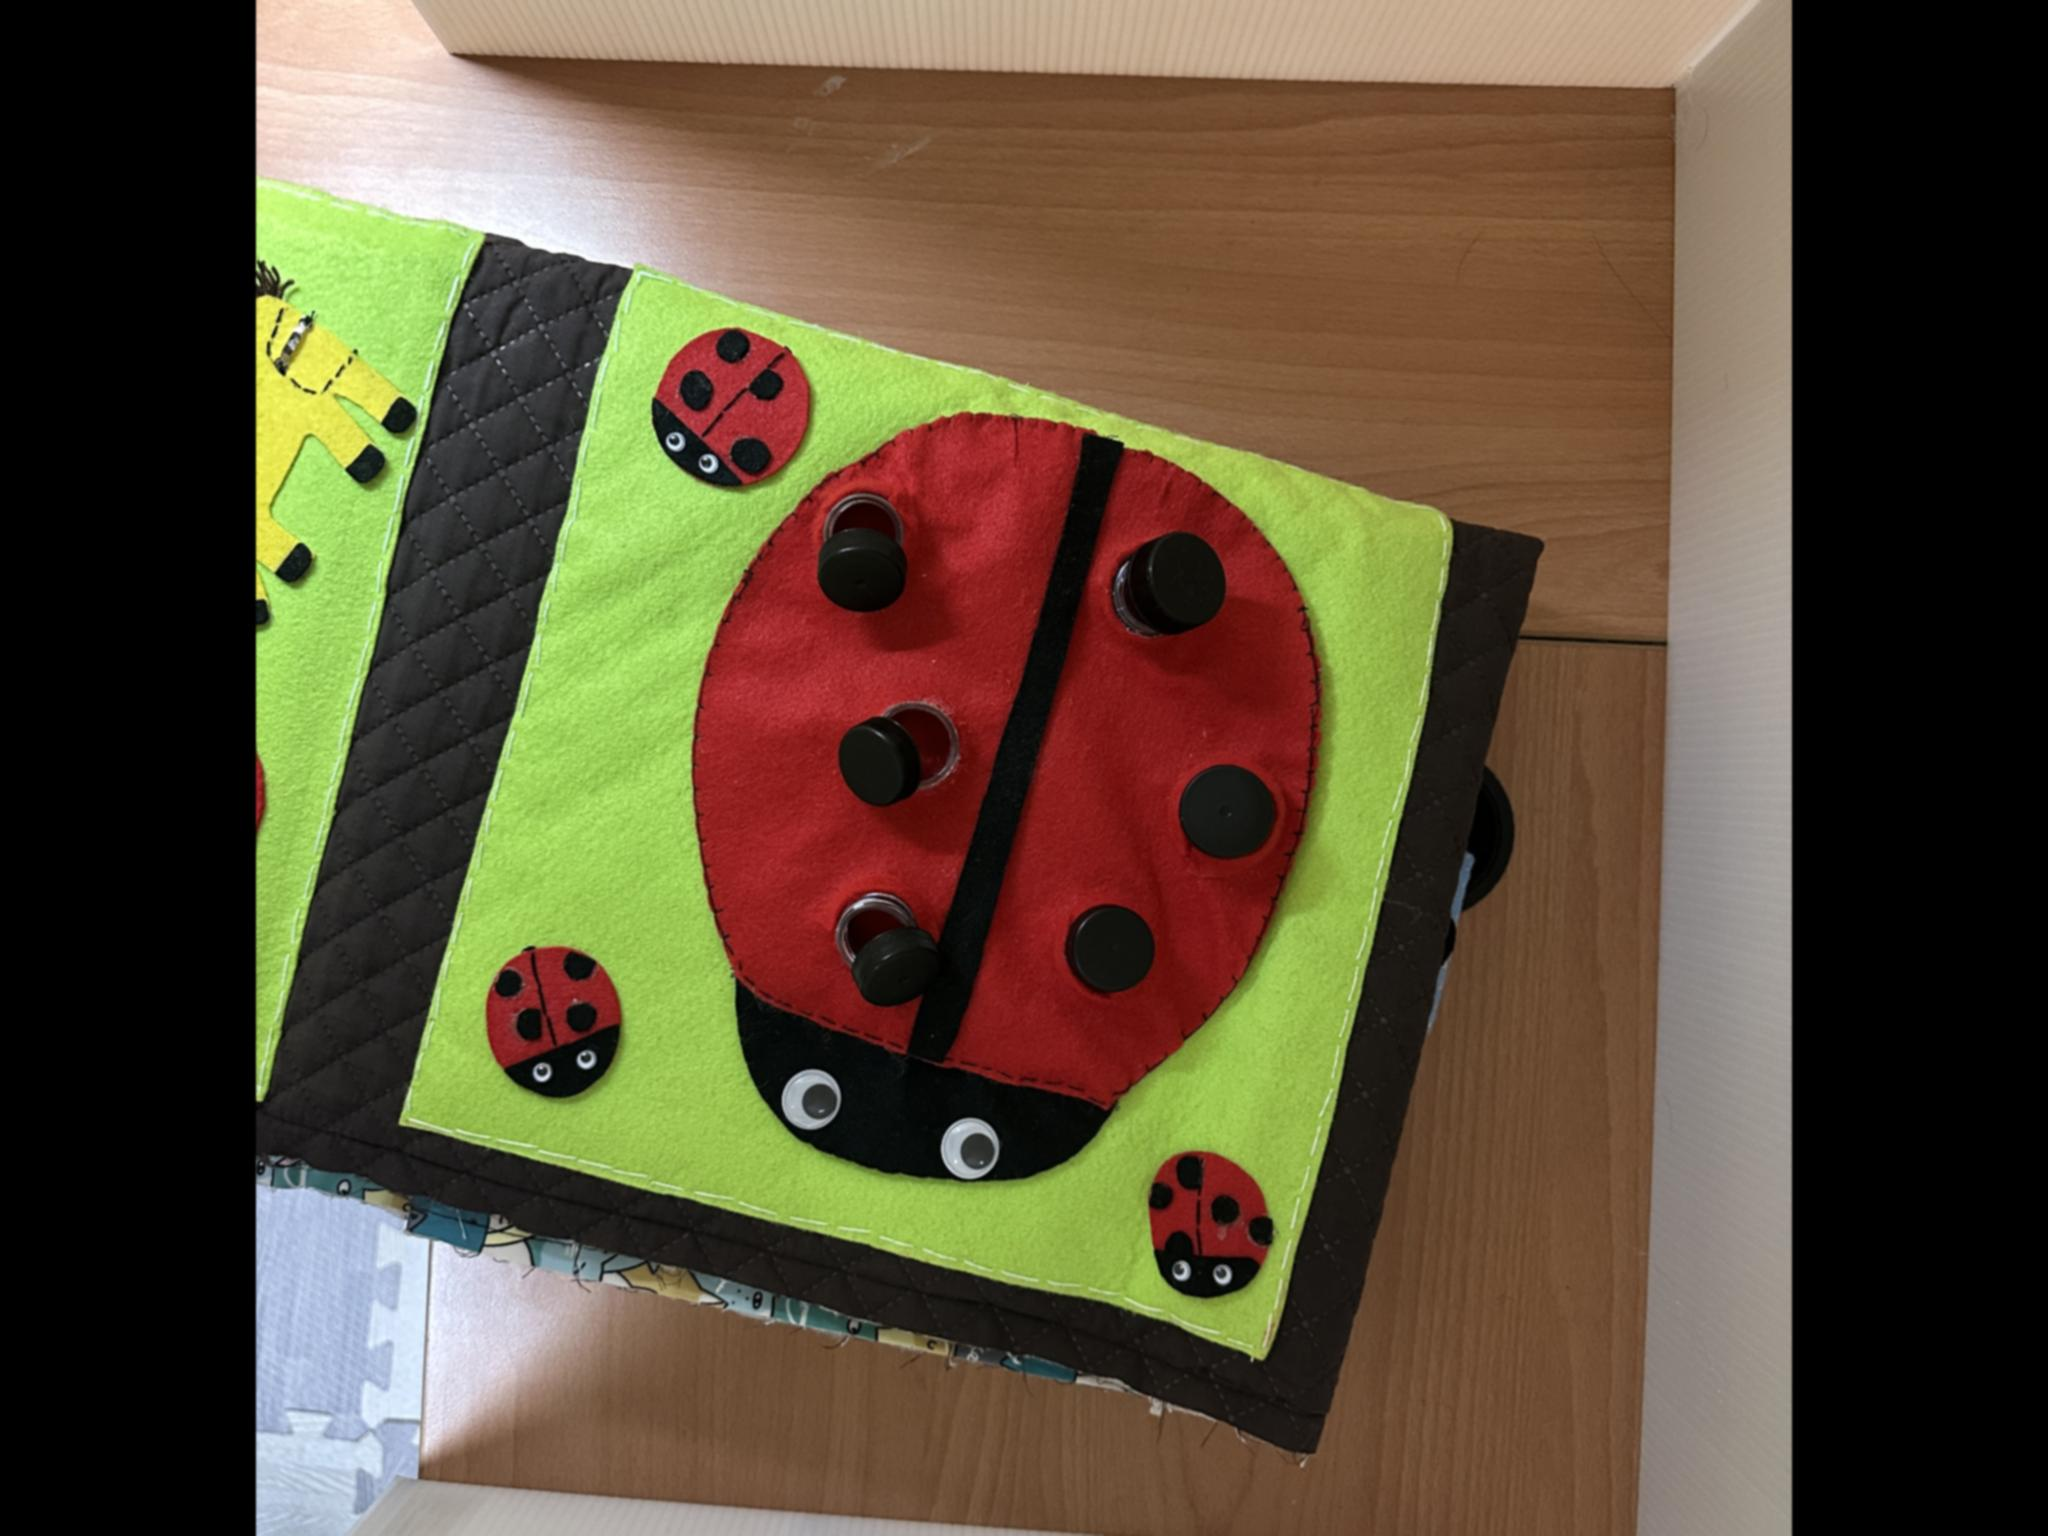cap_ng: (1095, 510, 1237, 653), (826, 687, 976, 820), (795, 474, 916, 623), (819, 879, 953, 1012)
cap_ok: (1164, 741, 1290, 878), (1042, 883, 1172, 1012)
